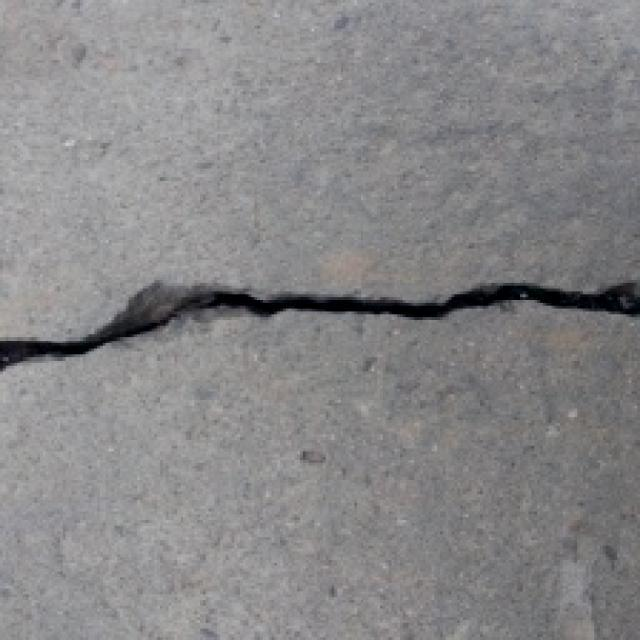crack: (0, 248, 640, 398)
